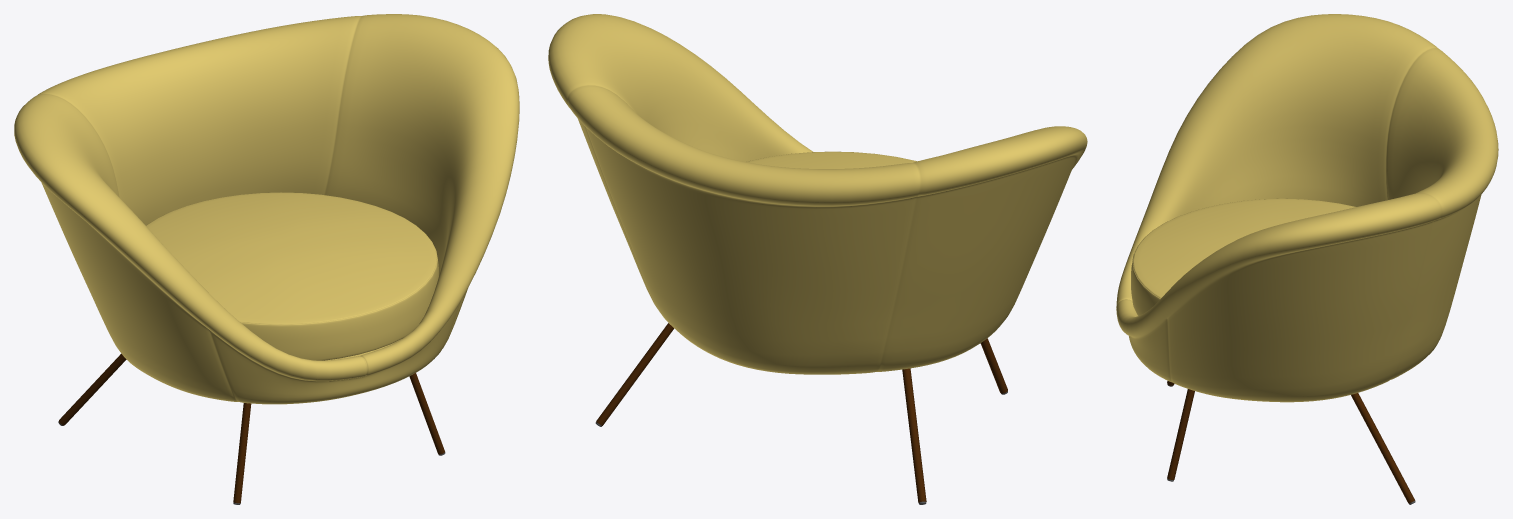
File: armchair-023.fbx
3 renders of one model, left to right at view 1: azimuth 30°, elevation 25°; view 2: azimuth 150°, elevation 25°; view 3: azimuth 270°, elevation 25°, orthographic. The views are drawn at different scales.
Parts seen in each view (by area): view 1: armchair-023; view 2: armchair-023; view 3: armchair-023.
Boxes of the visible parts, <box> form: armchair-023: <box>14,14,519,504</box>; armchair-023: <box>548,14,1087,504</box>; armchair-023: <box>1116,14,1498,504</box>.
Size of the model in its own units: 108 by 73.72 by 79.93.
